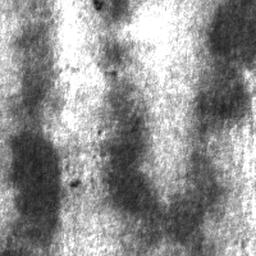Patches: (102, 0, 256, 243), (5, 131, 60, 256), (19, 0, 58, 111)
